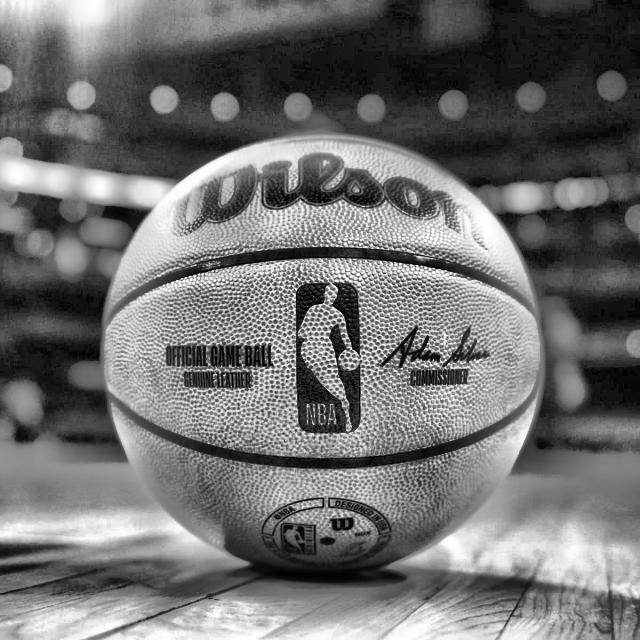Basketball: (102, 134, 544, 573)
